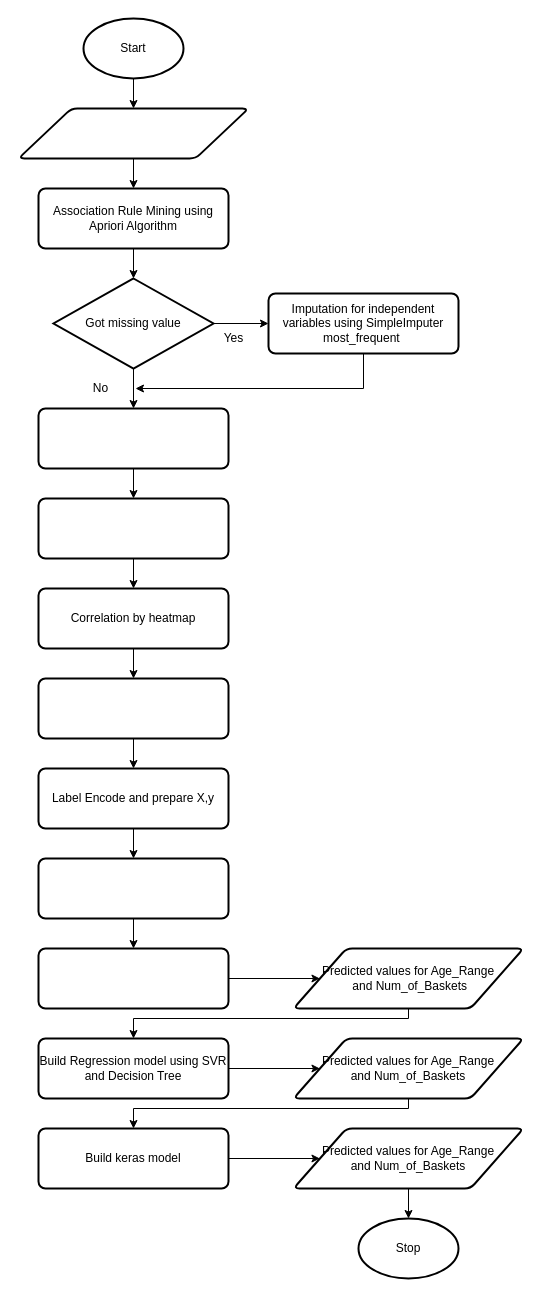
This 541x1296 diagram has some shape labels left out. The shapes that lost their labels are listed below. From the top down, each one's centre as x and y in pixels, then its label:
At point 133,133: "Read LaundryData_2021_T2.csv".
At point 133,438: "K Means Clustering".
At point 133,528: "Dropna for dependent variables".
At point 133,708: "Binning for Age Range".
At point 133,888: "Feature selection using boruta and RFE".
At point 133,978: "Build Classification model using Naive Bayes, Random Forest and KNN".
